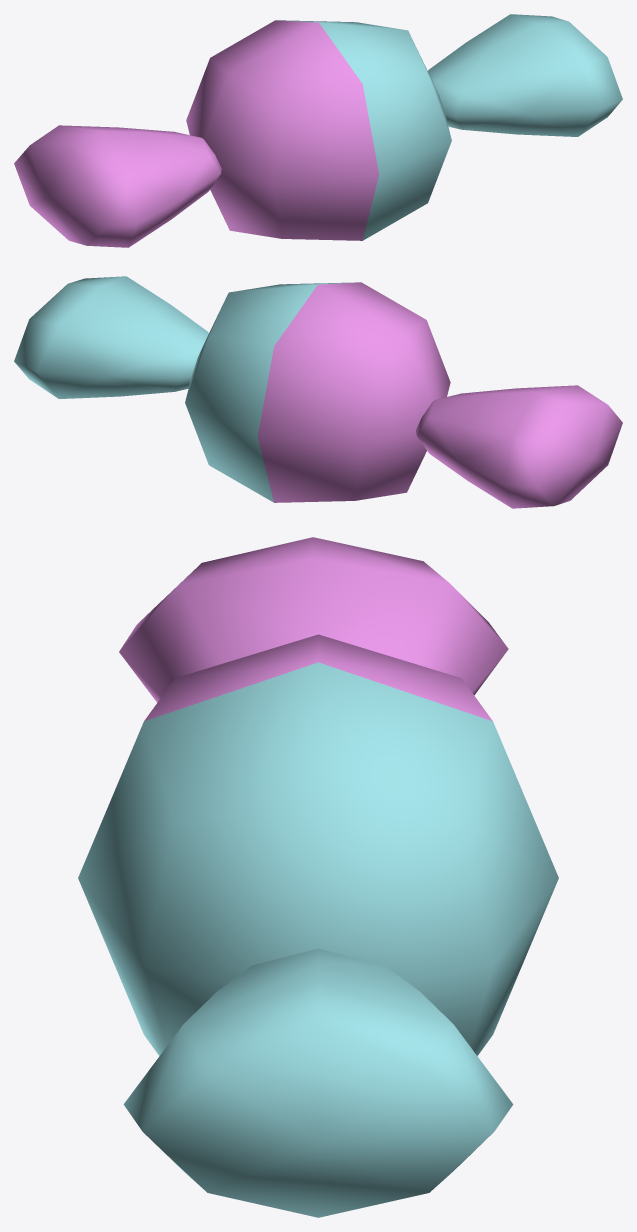
File: candy.fbx
3 renders of one model, top to bottom at view 1: azimuth 30°, elevation 25°; view 2: azimuth 150°, elevation 25°; view 3: azimuth 270°, elevation 25°, orthographic. The views are drawn at different scales.
Parts seen in each view (by area): view 1: candyMesh; view 2: candyMesh; view 3: candyMesh.
Part boxes in pixels (x1,y1,x2,y2): candyMesh: [14, 14, 622, 247]; candyMesh: [14, 276, 622, 508]; candyMesh: [78, 537, 558, 1217].
Size of the model in its own units: 0.7865 by 0.2961 by 0.2991.
